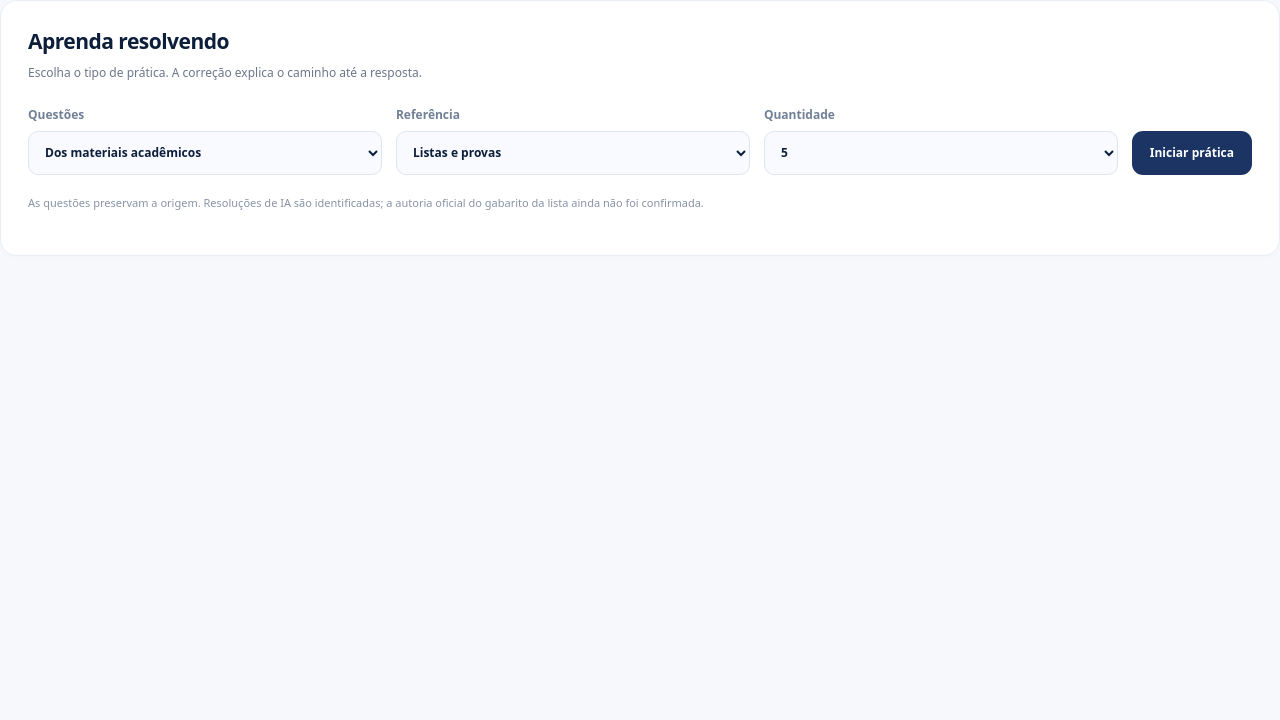
Scenario: Integração da seleção de prática de Estatística › envia os filtros escolhidos para a API pública sem presumir IDs fixos
Select "Inéditas geradas por IA" in the dropdown labelled "Questões": point(205, 153) [28,131,382,175]
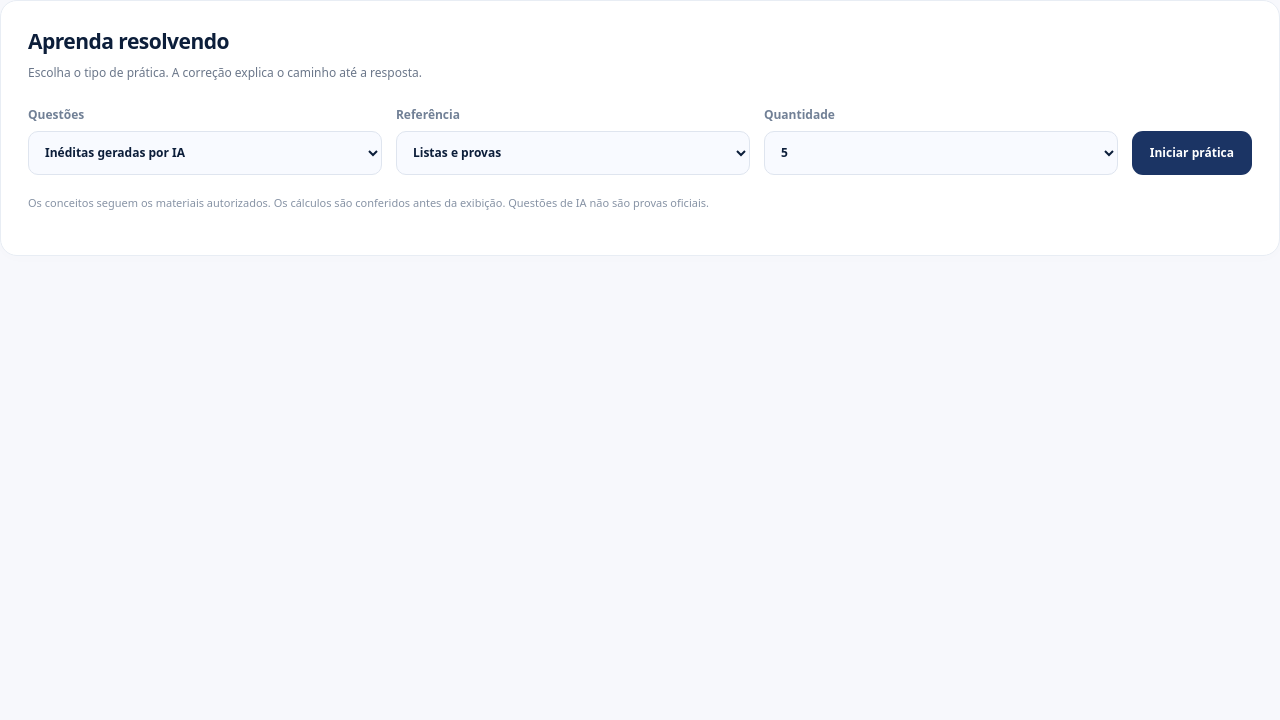
Select "Provas anteriores" in the dropdown labelled "Referência": point(573, 153) [396,131,750,175]
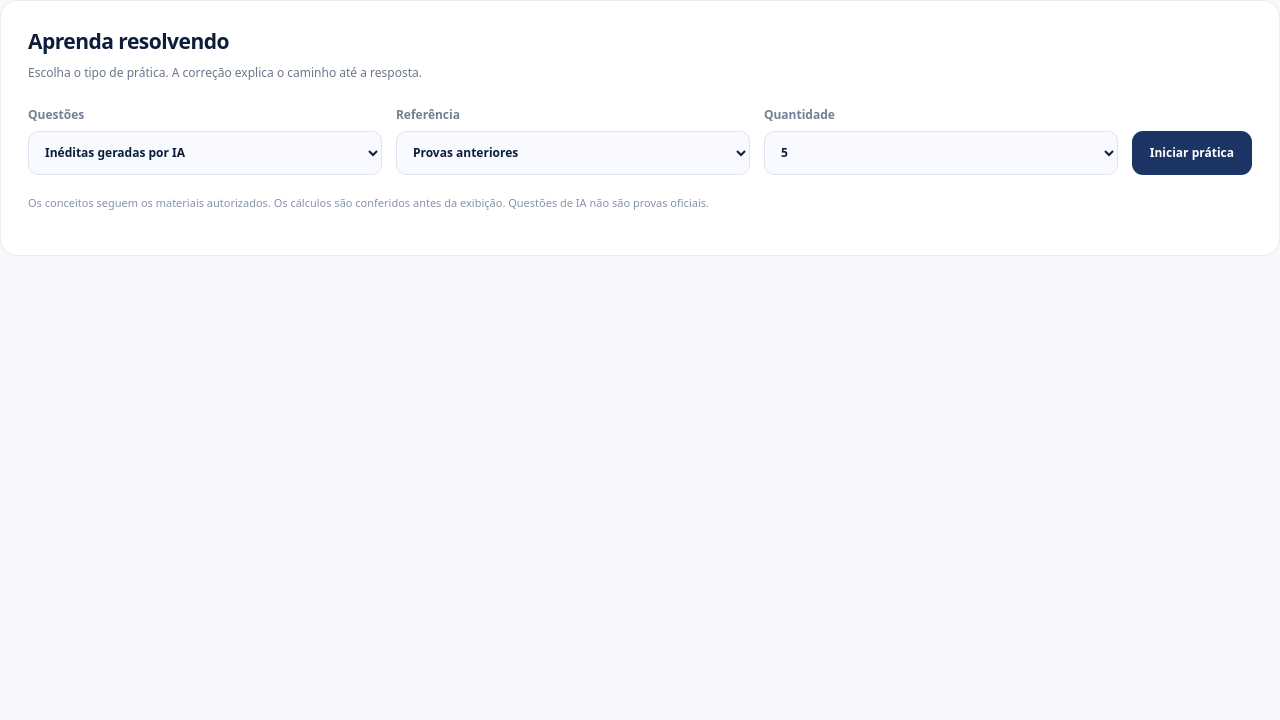
Select "3" in the dropdown labelled "Quantidade": point(941, 153) [764,131,1118,175]
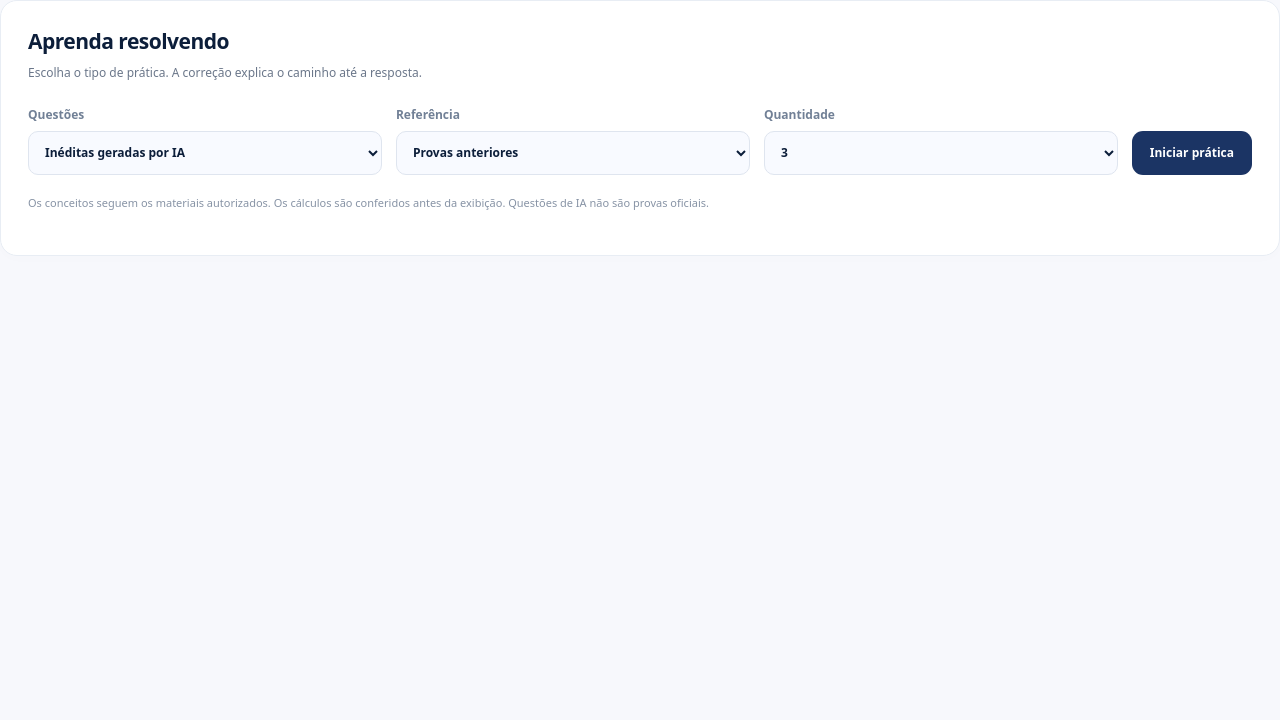
Click the button "Iniciar prática": point(1192, 153) [1132,131,1252,175]
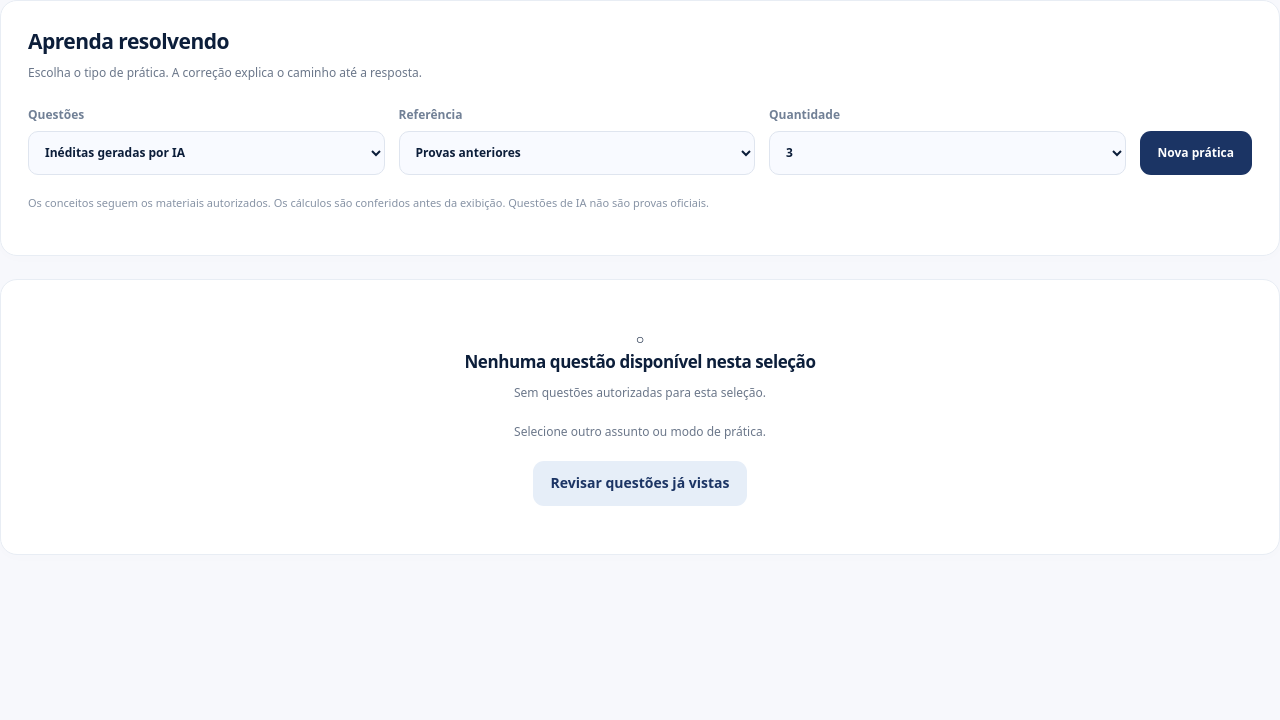
Check: the heading "Nenhuma questão disponível nesta seleção" is shown, box [464,350,816,373]
